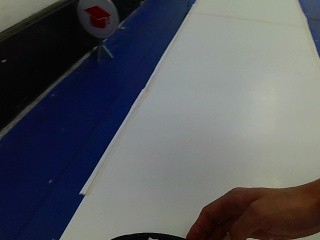school: (75, 0, 115, 38)
